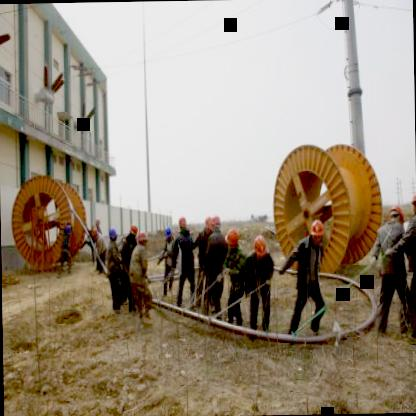helmet: (250, 232, 270, 258), (387, 202, 405, 229), (307, 216, 324, 244), (225, 226, 243, 248), (175, 214, 191, 236), (408, 186, 416, 218), (160, 221, 172, 242), (106, 223, 118, 244), (136, 228, 148, 248), (127, 222, 138, 239)
